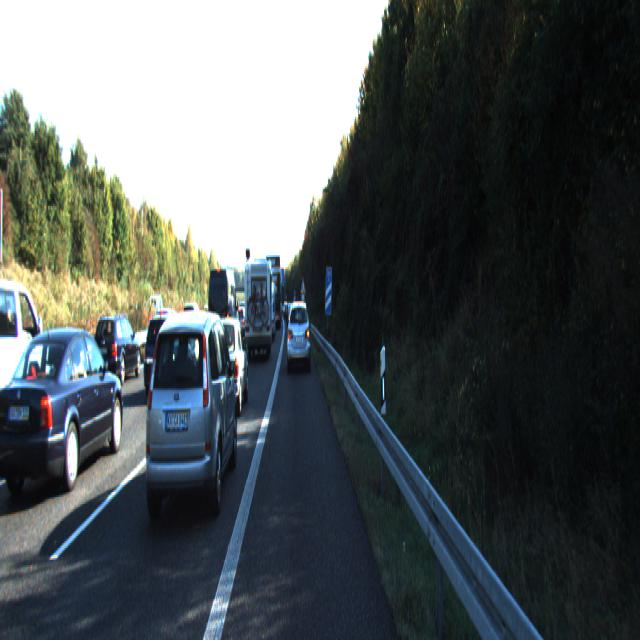Car: (0, 323, 126, 509), (138, 309, 240, 537), (0, 272, 56, 451), (134, 315, 187, 407), (205, 315, 249, 417), (90, 312, 142, 386), (203, 271, 234, 364), (244, 260, 272, 361), (286, 298, 310, 371), (268, 260, 282, 332)
